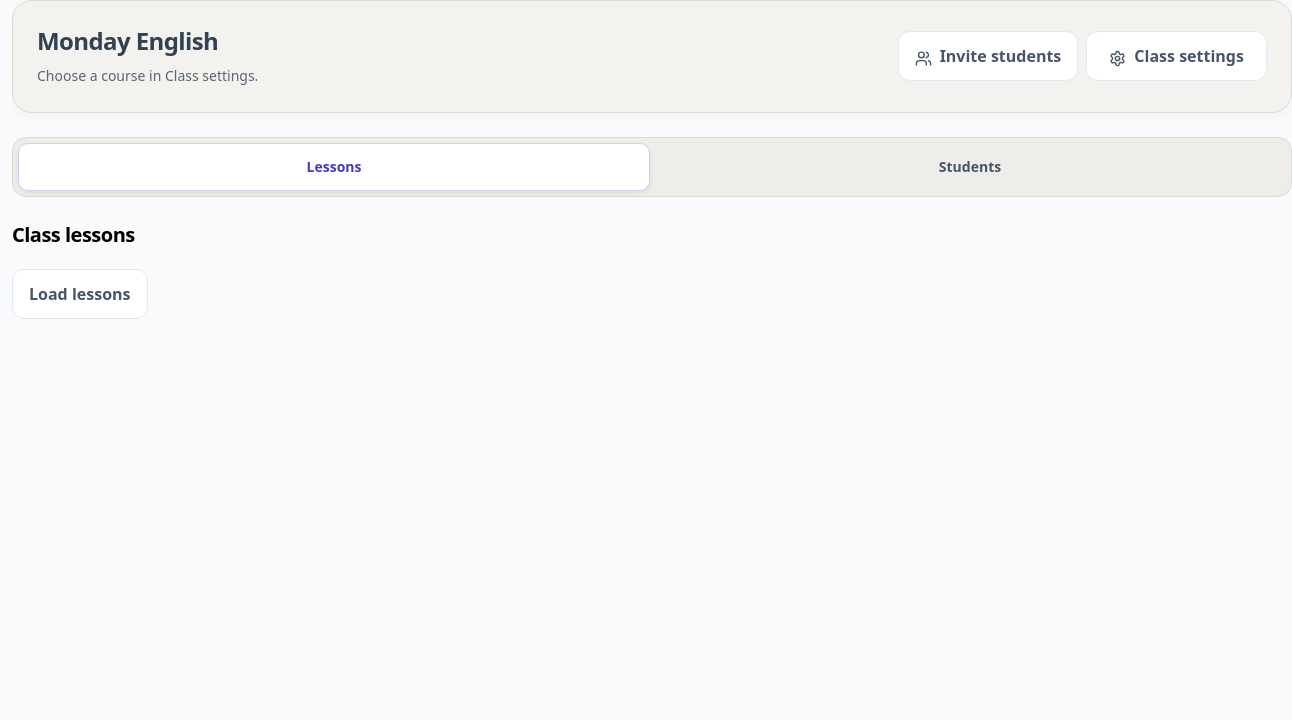
Test: failed reports show retry instead of inventing empty progress
The width and height of the screenshot is (1292, 720).
Click the button "Students" at (970, 167), box [654,143,1286,191]
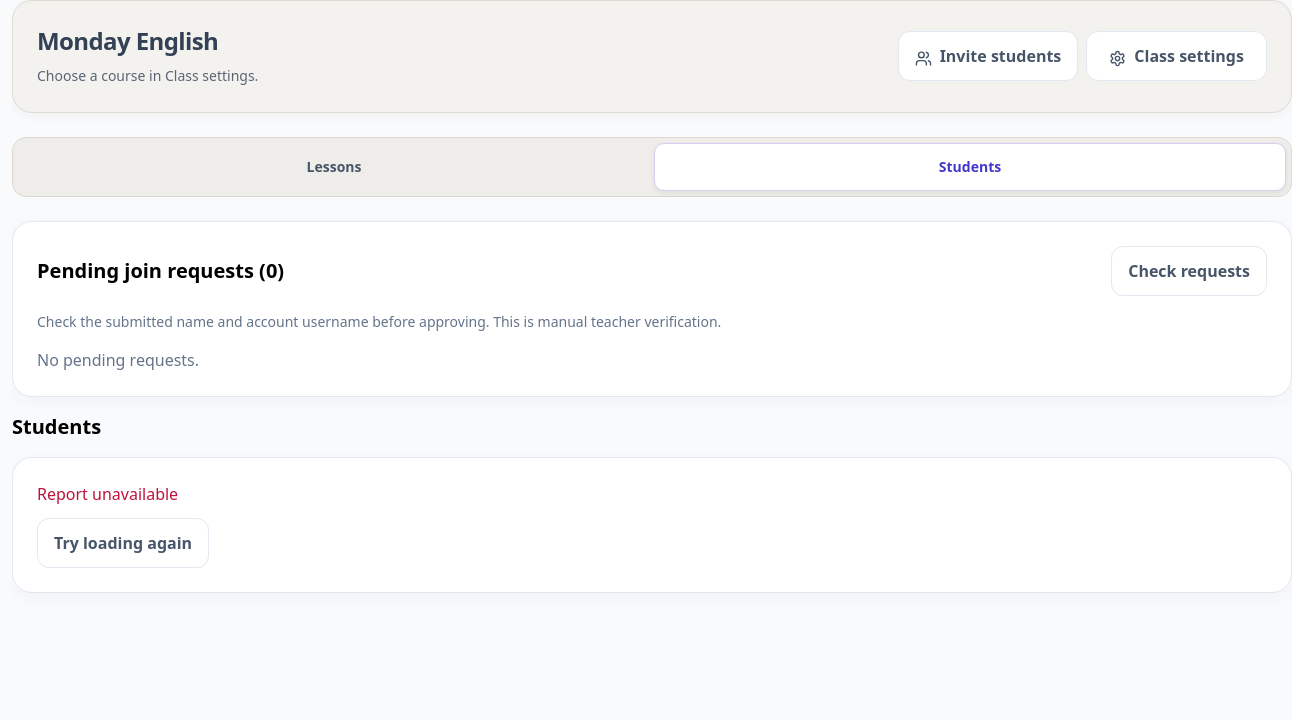
Now the message "Report unavailable Try loading again" is shown, box [12,457,1291,593]
Click the button "Try loading again" at (123, 543), box [37,518,209,568]
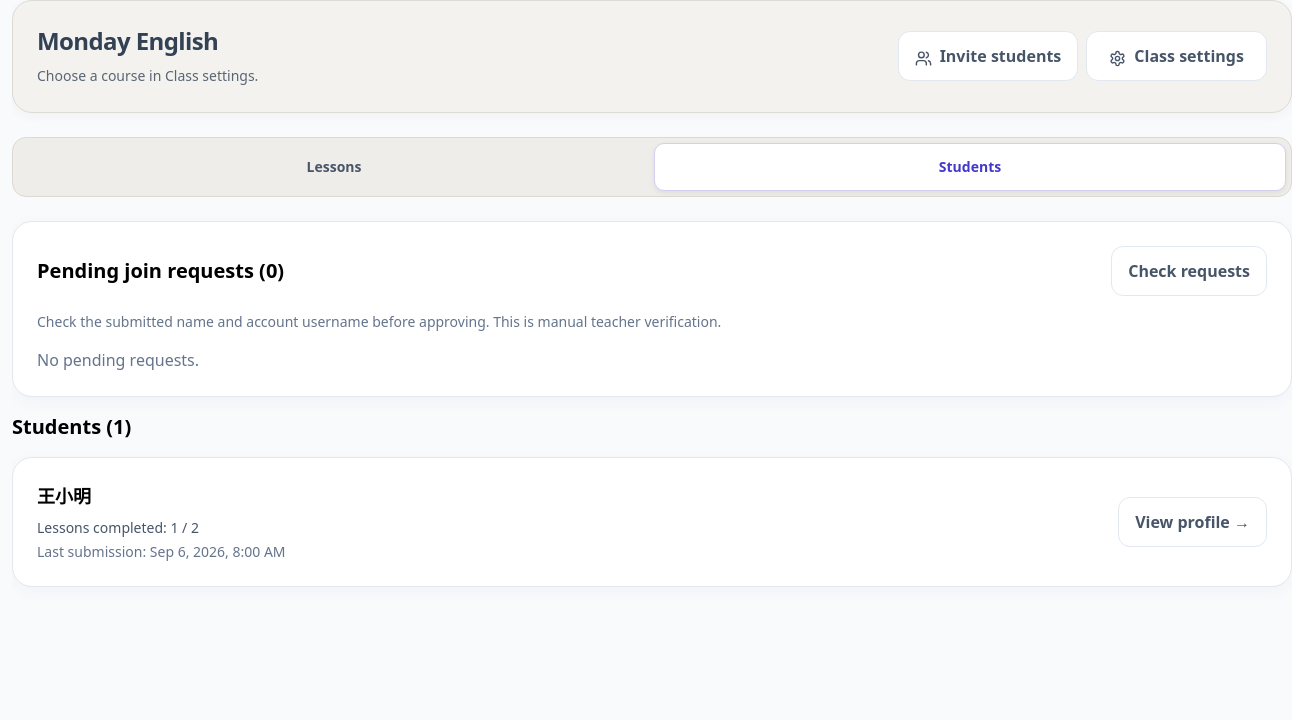
Now the button "View profile →" is shown, box [1118,497,1267,547]
